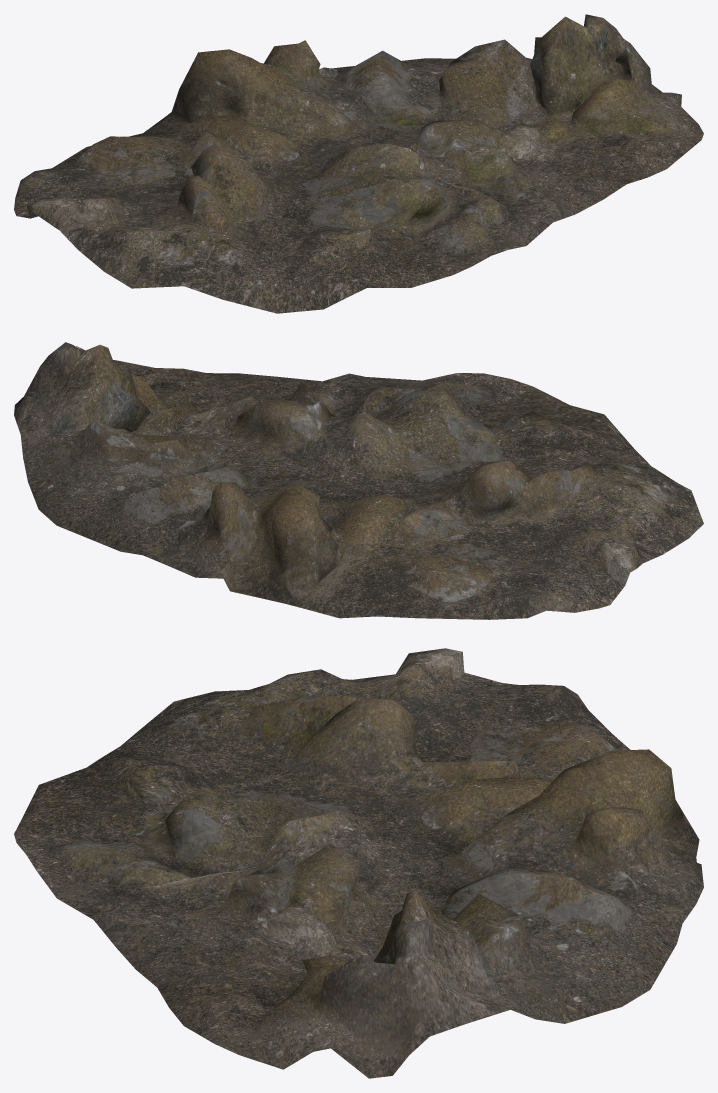
Rendered from PX_Mossy_Rock_10_LOD5.fbx.
3 views of the same model, one above another, from view 1: azimuth 30°, elevation 25°; view 2: azimuth 150°, elevation 25°; view 3: azimuth 270°, elevation 25° (orthographic). The views are drawn at different scales.
Visible parts, largest first — view 1: PX_Mossy_Rock_10_LOD5; view 2: PX_Mossy_Rock_10_LOD5; view 3: PX_Mossy_Rock_10_LOD5.
Part boxes in pixels (box(x1,y1,x2,y2)): PX_Mossy_Rock_10_LOD5: box(14, 14, 703, 313); PX_Mossy_Rock_10_LOD5: box(14, 342, 703, 619); PX_Mossy_Rock_10_LOD5: box(14, 648, 703, 1078).
Size of the model in its own units: 236 by 40.32 by 172.
